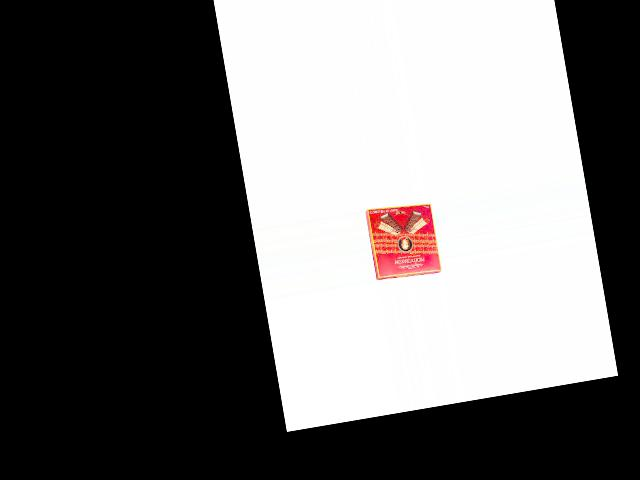chocolate: (363, 196, 443, 281)
